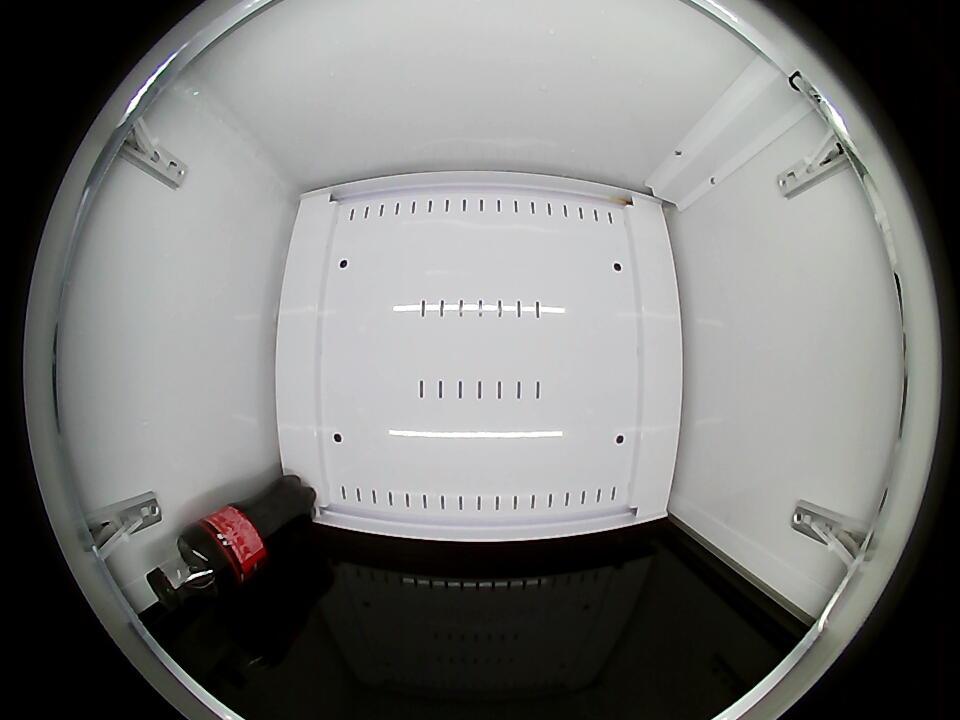lingdukele-b: (146, 536, 219, 608)
